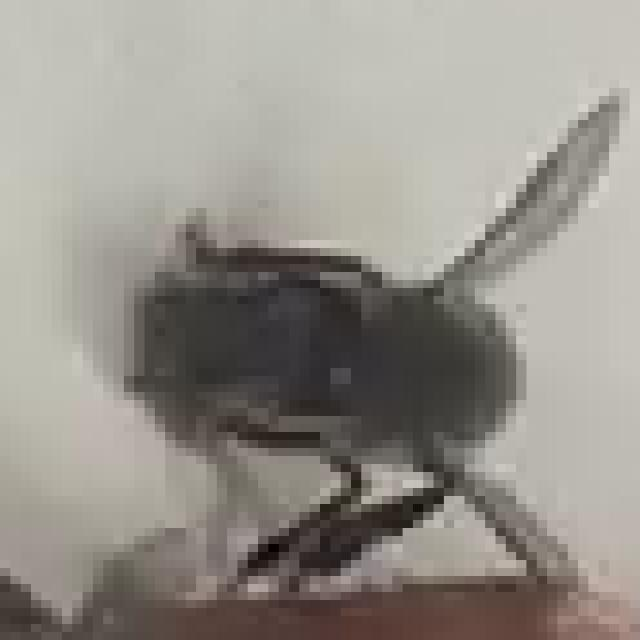honeybee: (138, 210, 506, 571)
